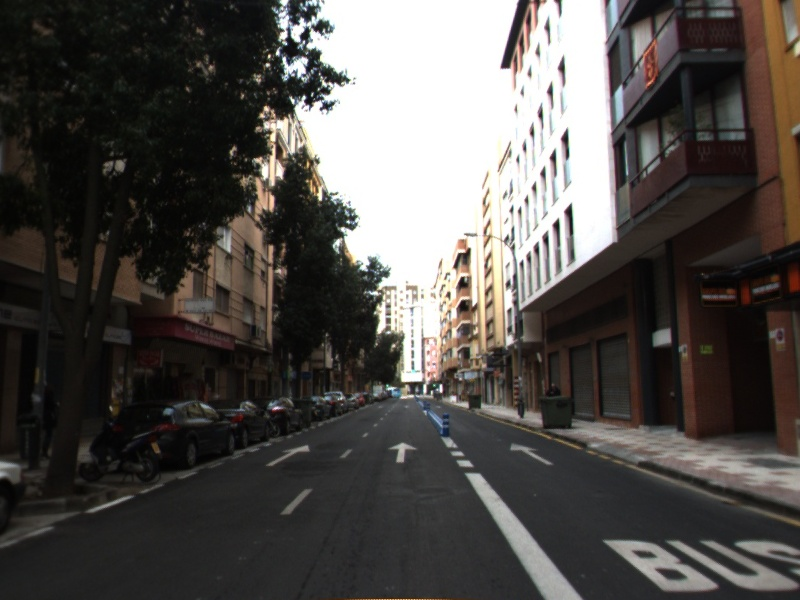STRAIGHT: (508, 441, 557, 467), (264, 443, 312, 468), (386, 440, 419, 465)
